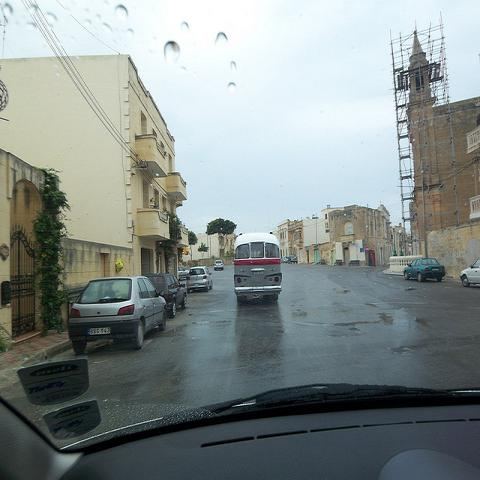bus: (234, 231, 283, 304)
car: (71, 274, 166, 350), (145, 274, 187, 317), (402, 257, 446, 282), (186, 266, 214, 294), (459, 256, 480, 288), (177, 266, 188, 280), (214, 260, 224, 270), (290, 253, 299, 264), (281, 255, 290, 264)
